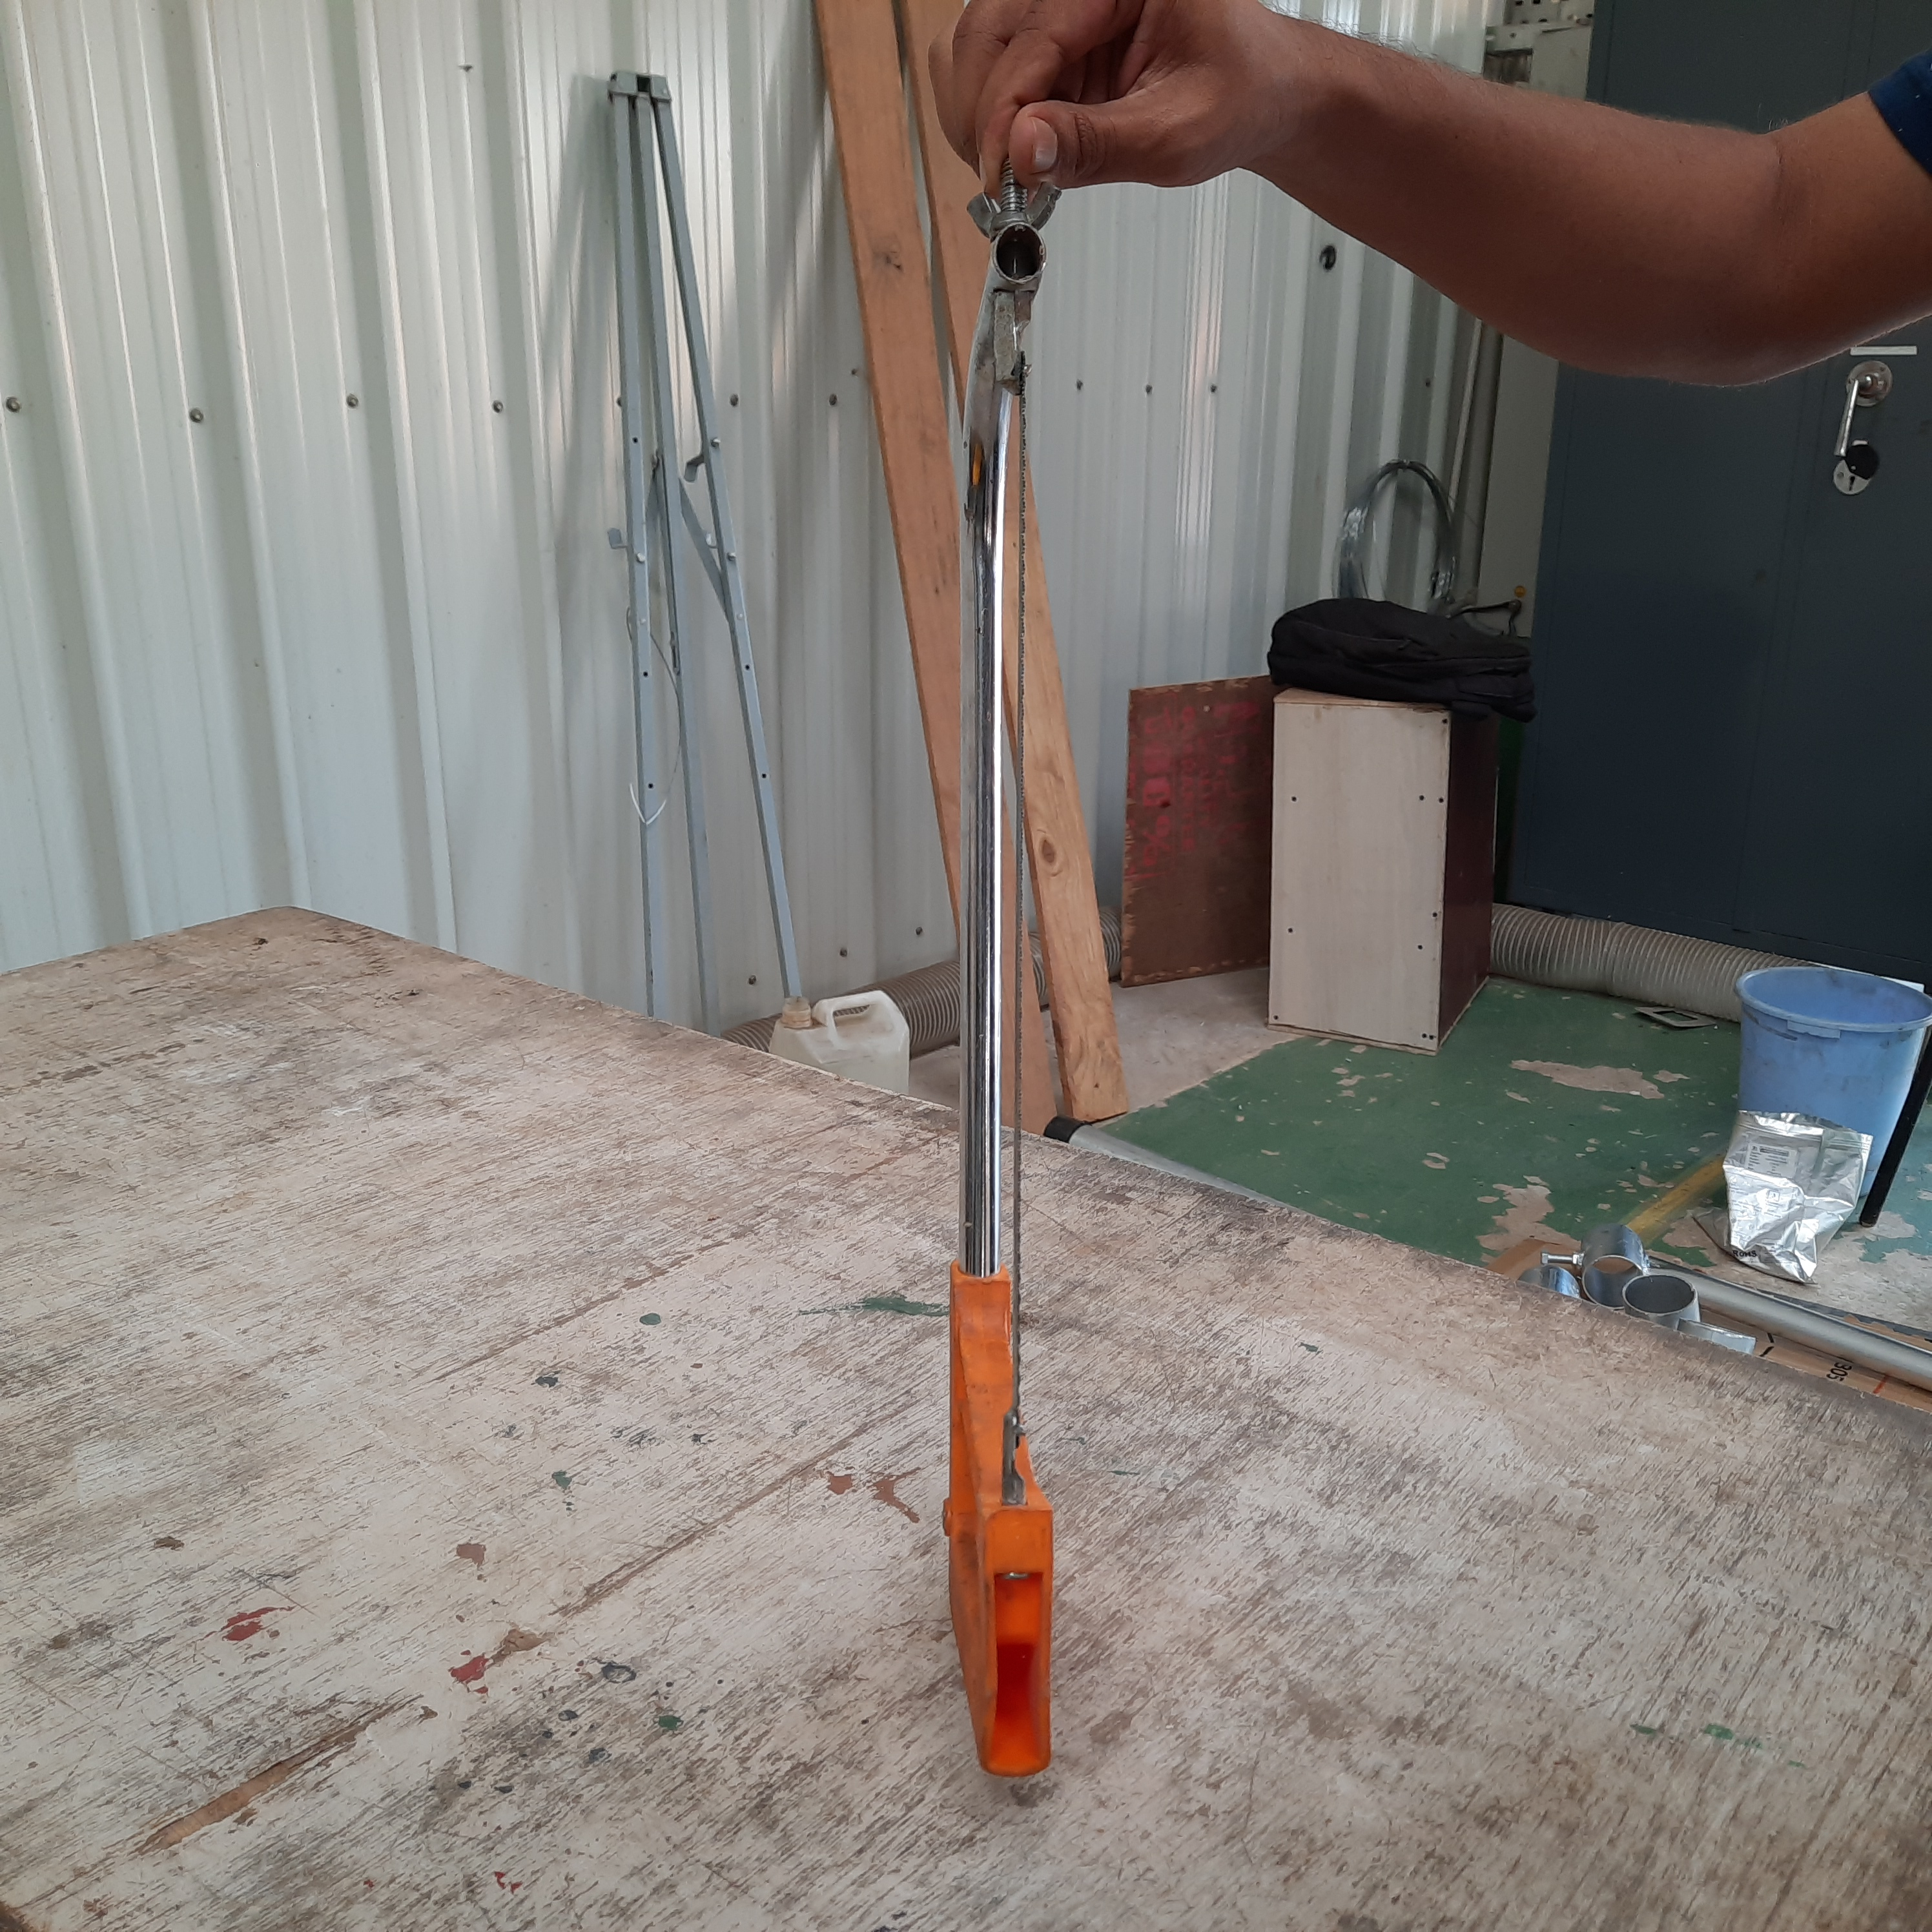Hexaframe: (925, 161, 1145, 1741)
